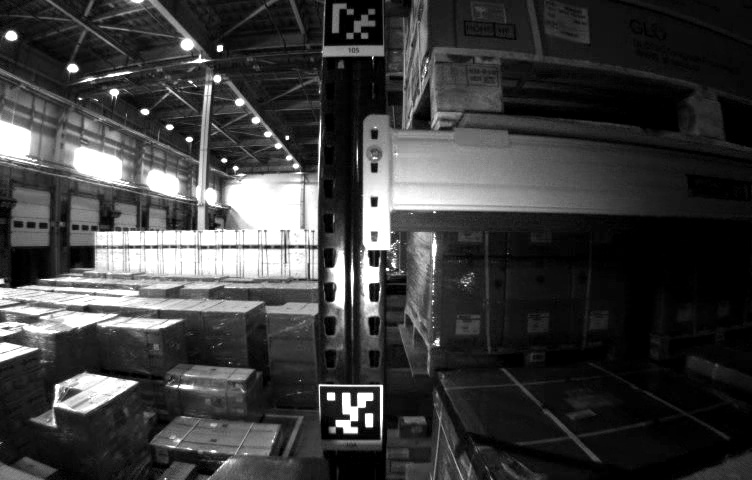True Barcode: (543, 1, 592, 45)
